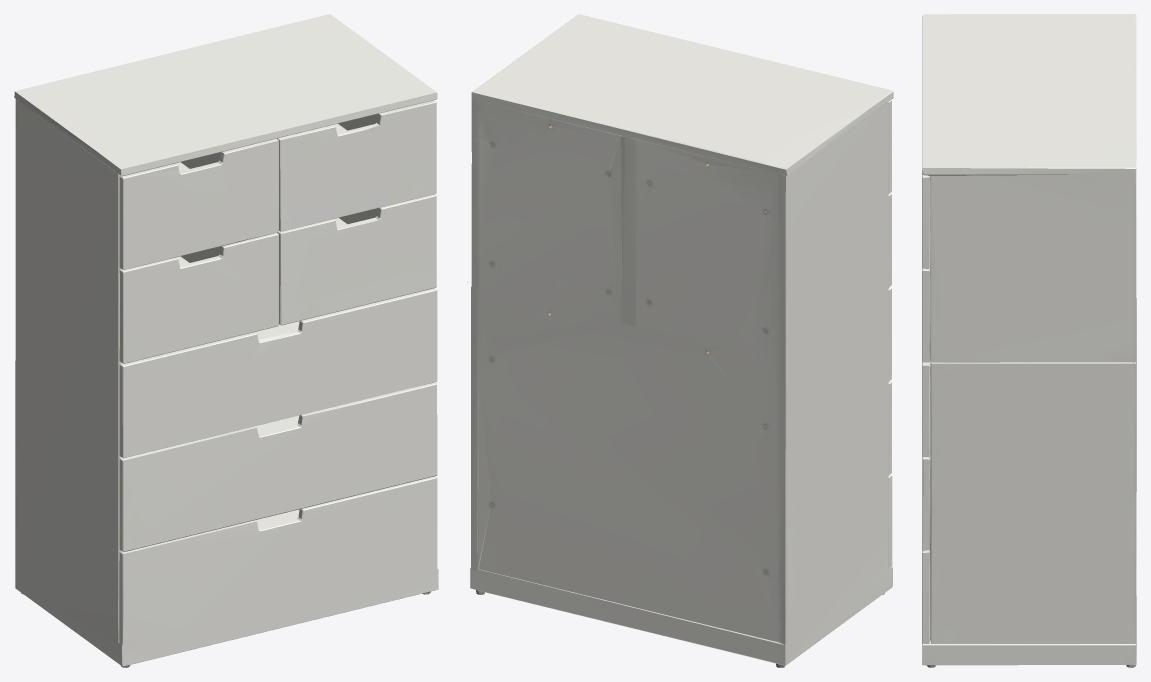
Rendered from 25 - NORDLI - 抽屜櫃7抽, 白色, 80x122 公分 IKEA 線上購物.glb.
3 renders of one model, left to right at view 1: azimuth 30°, elevation 25°; view 2: azimuth 150°, elevation 25°; view 3: azimuth 270°, elevation 25°, orthographic.
Parts seen in each view (by area): view 1: ProcessedMeshNode; view 2: ProcessedMeshNode; view 3: ProcessedMeshNode.
Boxes of the visible parts, x1=… form: ProcessedMeshNode: x1=14, y1=14, x2=438, y2=667; ProcessedMeshNode: x1=467, y1=14, x2=893, y2=667; ProcessedMeshNode: x1=922, y1=14, x2=1136, y2=667.
Bounding box in the file's own units: 0.8138 × 1.21 × 0.4706.
1 material, 1 textured.
